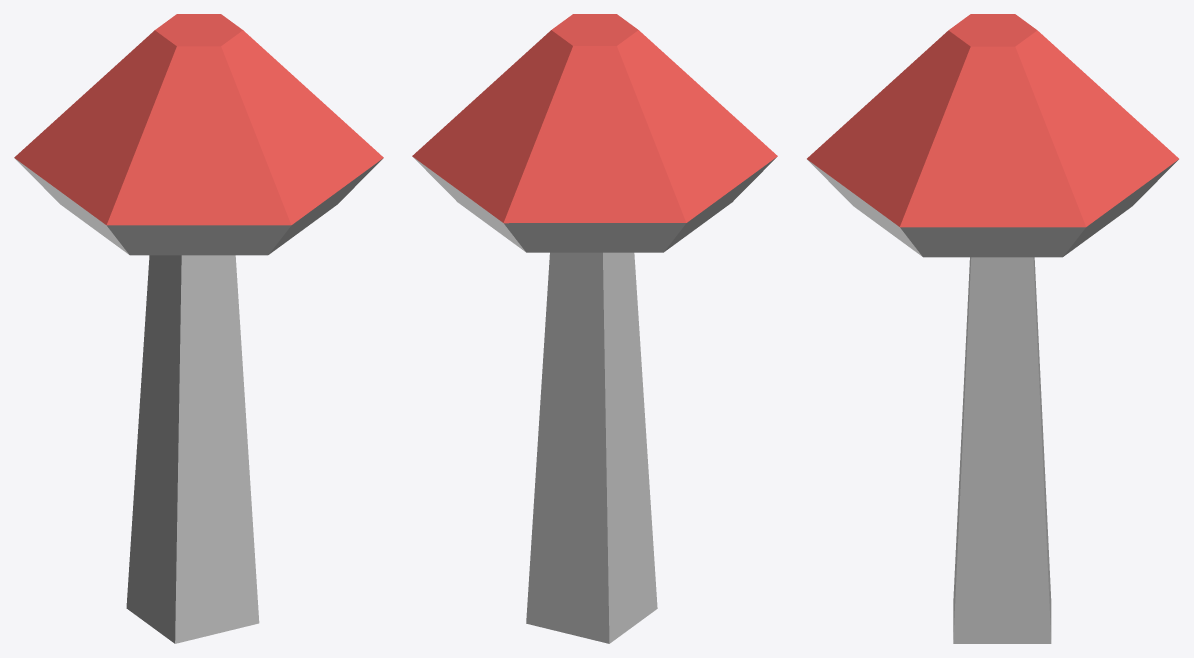
Rendered from mushroom_red.glb.
3 views of the same model, side by side, from view 1: azimuth 30°, elevation 25°; view 2: azimuth 150°, elevation 25°; view 3: azimuth 270°, elevation 25° (orthographic).
Visible parts, largest first — view 1: mushroom_redTall; view 2: mushroom_redTall; view 3: mushroom_redTall.
Part boxes in pixels (x1,y1,x2,y2): mushroom_redTall: [14, 14, 383, 643]; mushroom_redTall: [412, 14, 777, 643]; mushroom_redTall: [807, 14, 1178, 643].
Size of the model in its own units: 0.1235 by 0.2505 by 0.1426.
